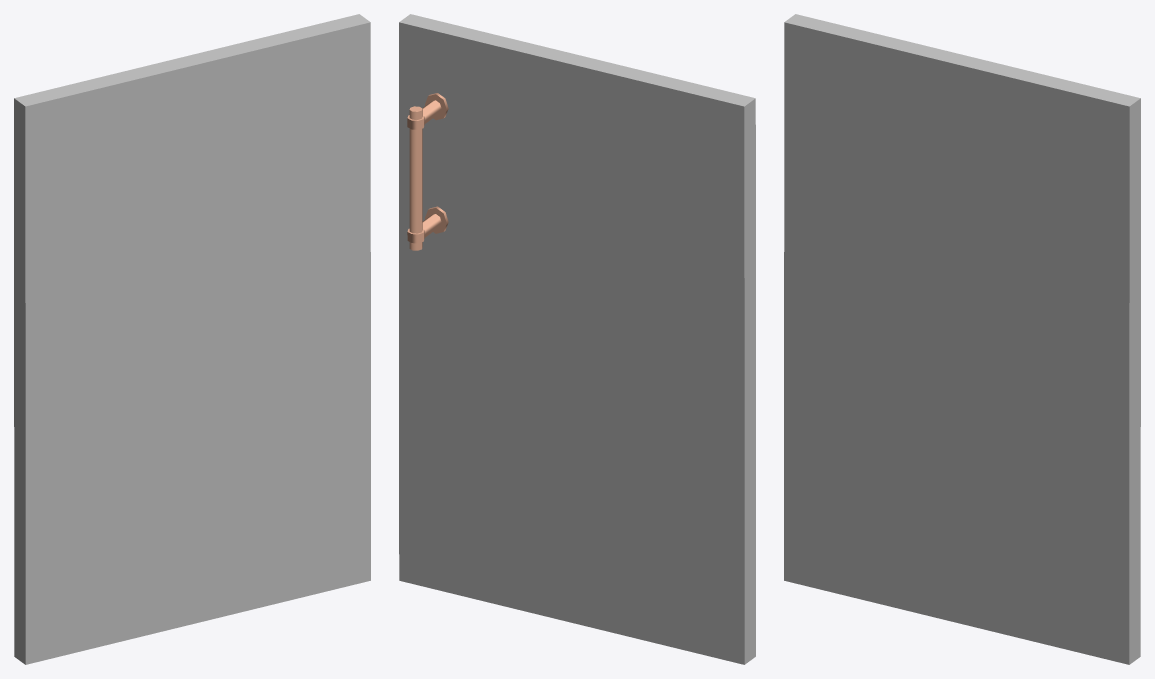
The model's file is Cabinet_8c15ae4d.obj.
3 renders of one model, left to right at view 1: azimuth 30°, elevation 25°; view 2: azimuth 150°, elevation 25°; view 3: azimuth 330°, elevation 25°, orthographic.
Visible parts, largest first — view 1: FP403:Door_c6d57a0b; view 2: FP403:Door_c6d57a0b; view 3: FP403:Door_c6d57a0b.
Part boxes in pixels (x1=…): FP403:Door_c6d57a0b: x1=14, y1=14, x2=370, y2=664; FP403:Door_c6d57a0b: x1=399, y1=14, x2=755, y2=664; FP403:Door_c6d57a0b: x1=784, y1=14, x2=1140, y2=664.
Size of the model in its own units: 0.5073 by 0.7838 by 0.0955.
